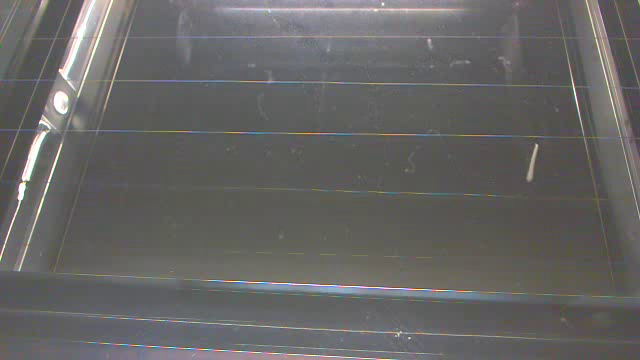alpha: (522, 140, 541, 184)
